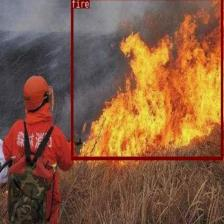fire: (70, 0, 222, 159)
